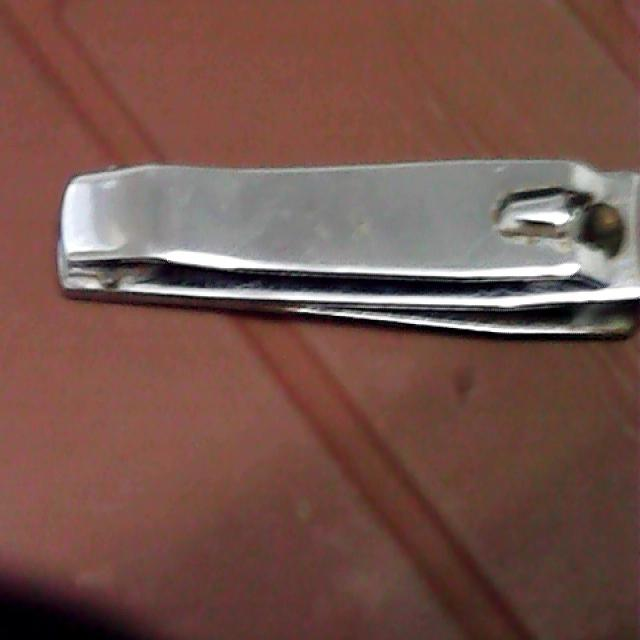Nail_clipper: (57, 157, 640, 336)
